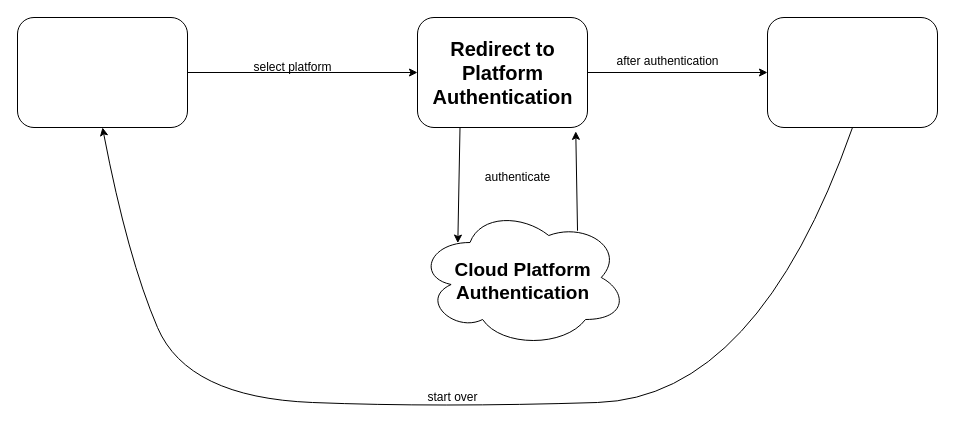
The diagram is 955 pixels wide and 425 high, and some of its shapes have lost their labels. The shapes that lost their labels are listed below. From the top down, each one's centre as x and y in pixels, then its label:
point 102,72: Main Screen
point 852,72: File Selection Screen
